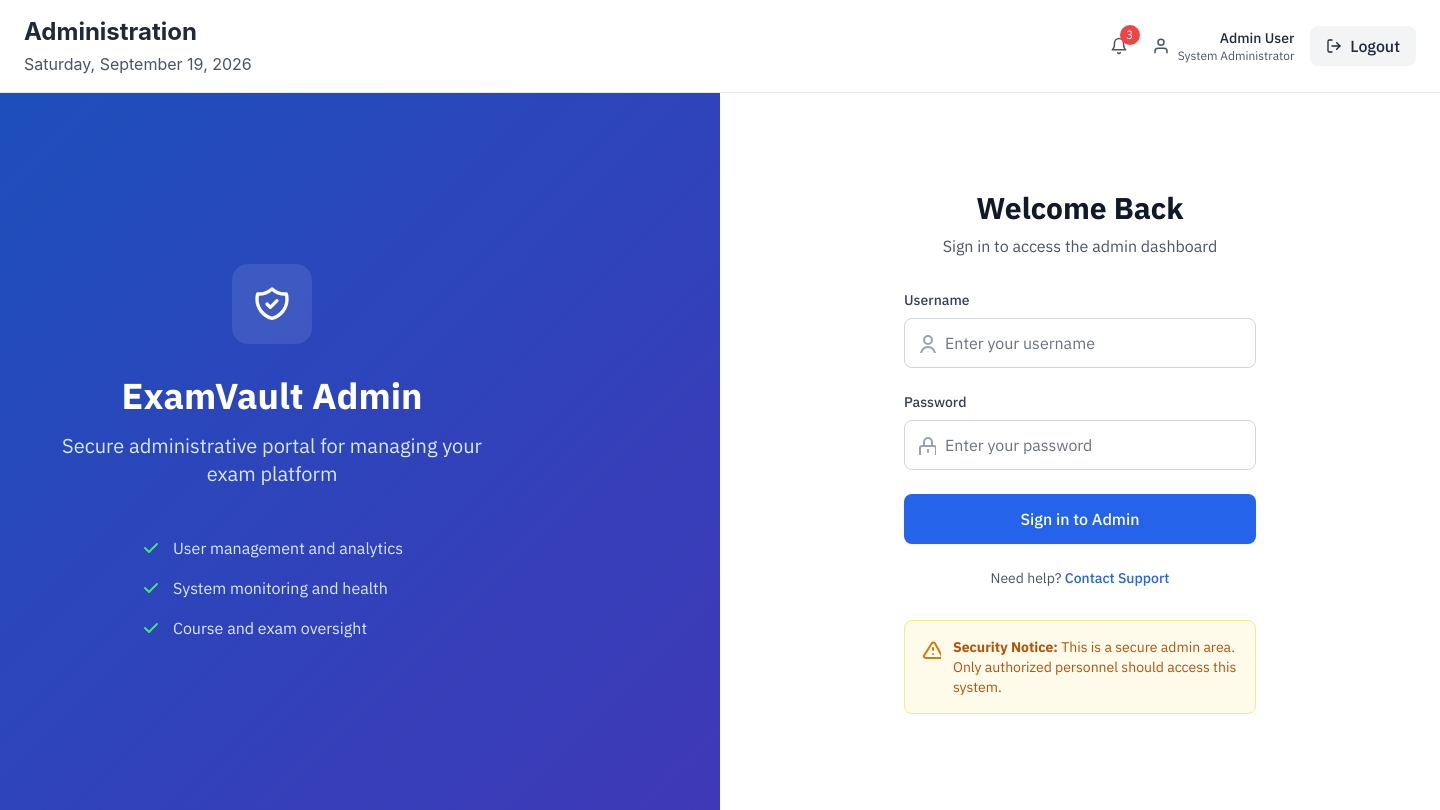
Administrator Authentication (UR1.1) › Secure Admin Login Form › rejects non-admin user login attempts
Type "instructor@test.com" into the field labelled "Username" at (1080, 342), box [904, 318, 1256, 368]
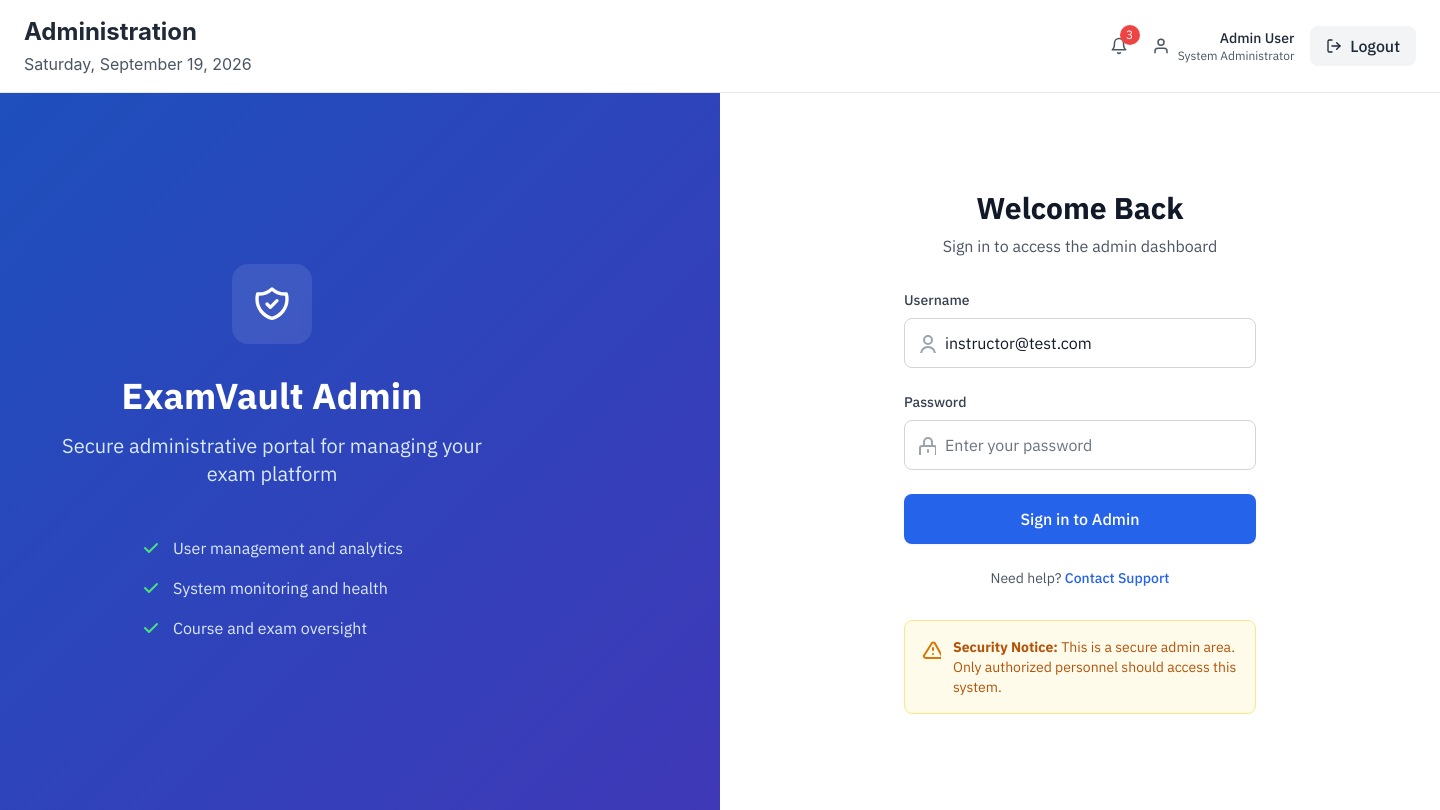
Type "InstructorPass123!" into the password field labelled "Password" at (1080, 444), box [904, 420, 1256, 470]
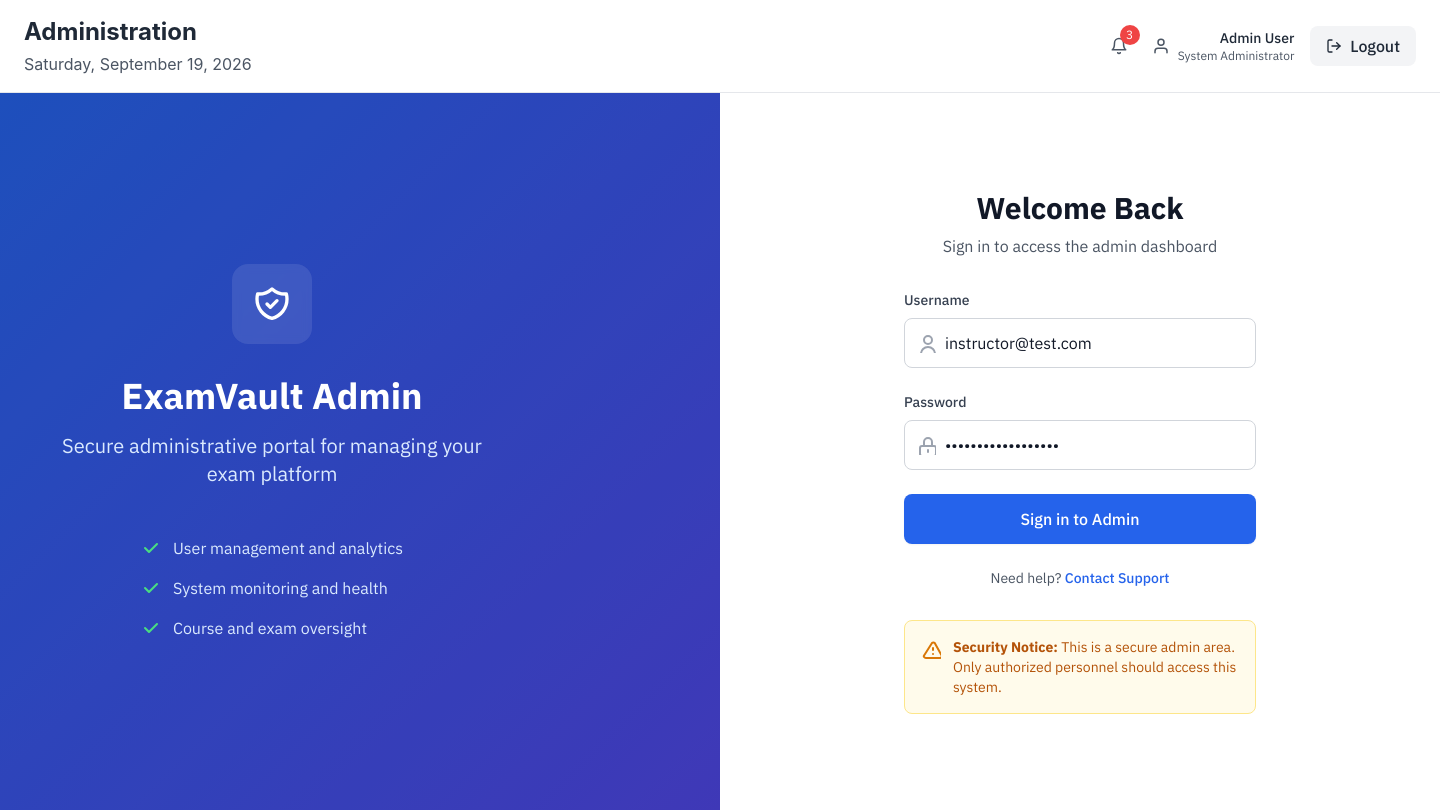
Click the button "Sign in to Admin" at (1080, 518), box [904, 494, 1256, 544]
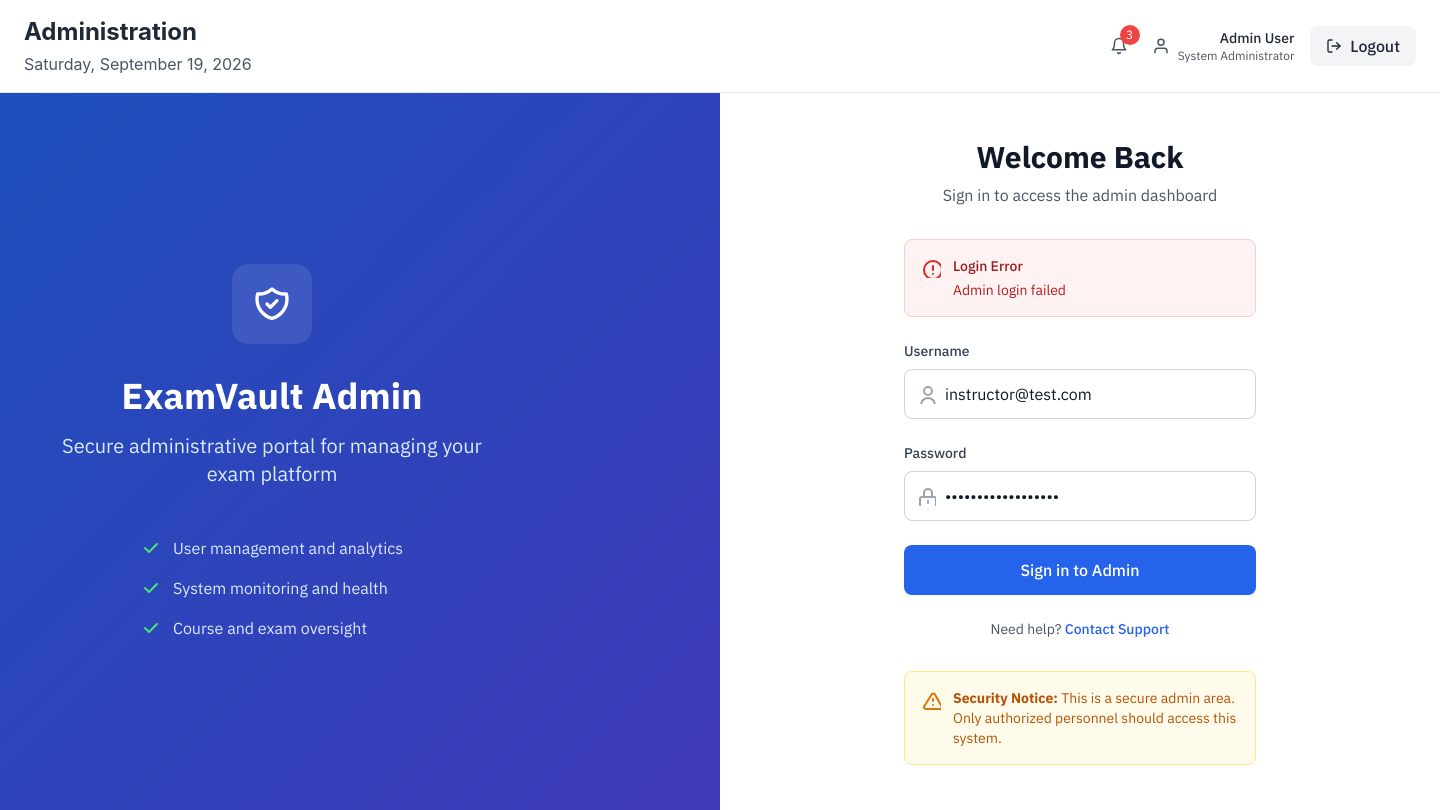
Now the text "Admin login failed" is shown, box [953, 280, 1066, 300]
